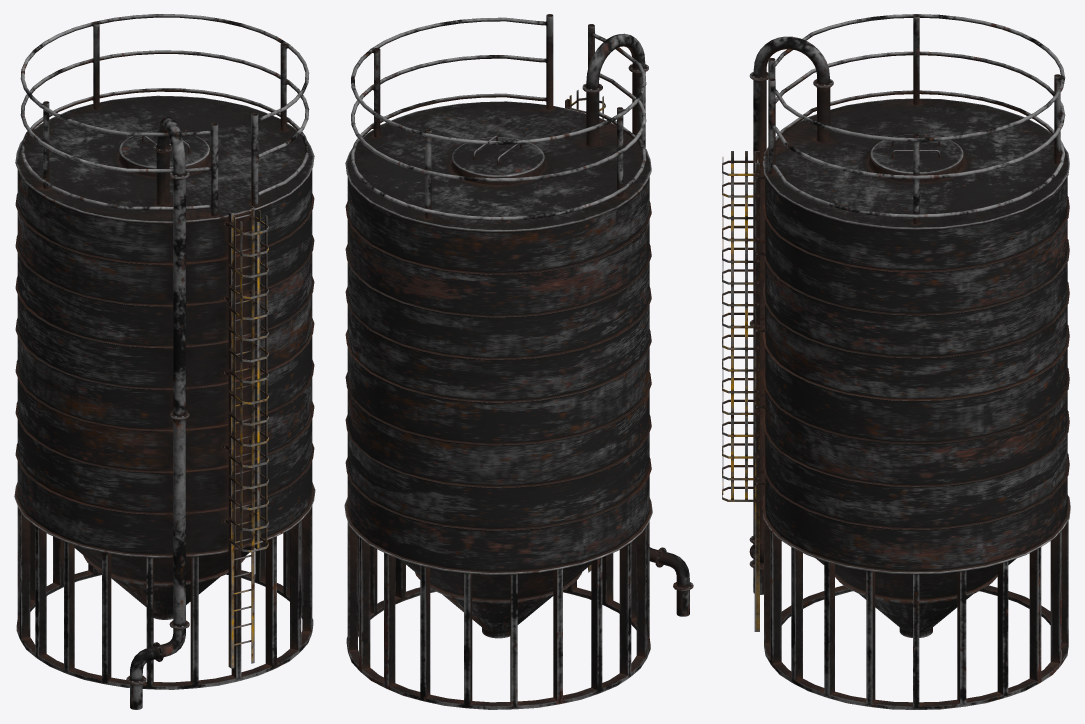
The model's file is 3D_silo_1.fbx.
3 views of the same model, side by side, from view 1: azimuth 30°, elevation 25°; view 2: azimuth 150°, elevation 25°; view 3: azimuth 270°, elevation 25° (orthographic). The views are drawn at different scales.
Parts seen in each view (by area): view 1: Silo; view 2: Silo; view 3: Silo.
Boxes of the visible parts, x1,y1,x2,y2 form: Silo: (14,14,315,709); Silo: (344,14,693,709); Silo: (722,14,1070,709).
Size of the model in its own units: 599 by 1243 by 676.
